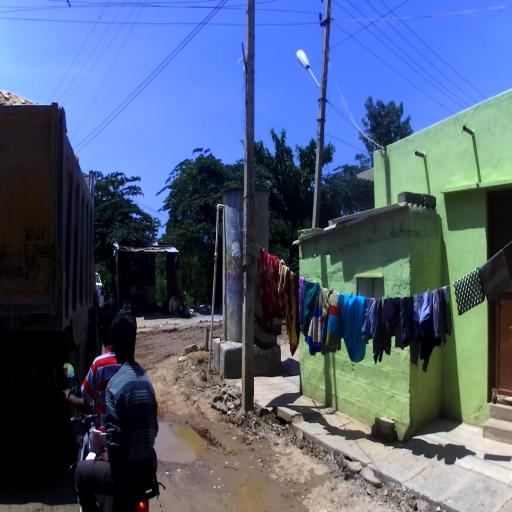street_light_0: (295, 48, 327, 126)
